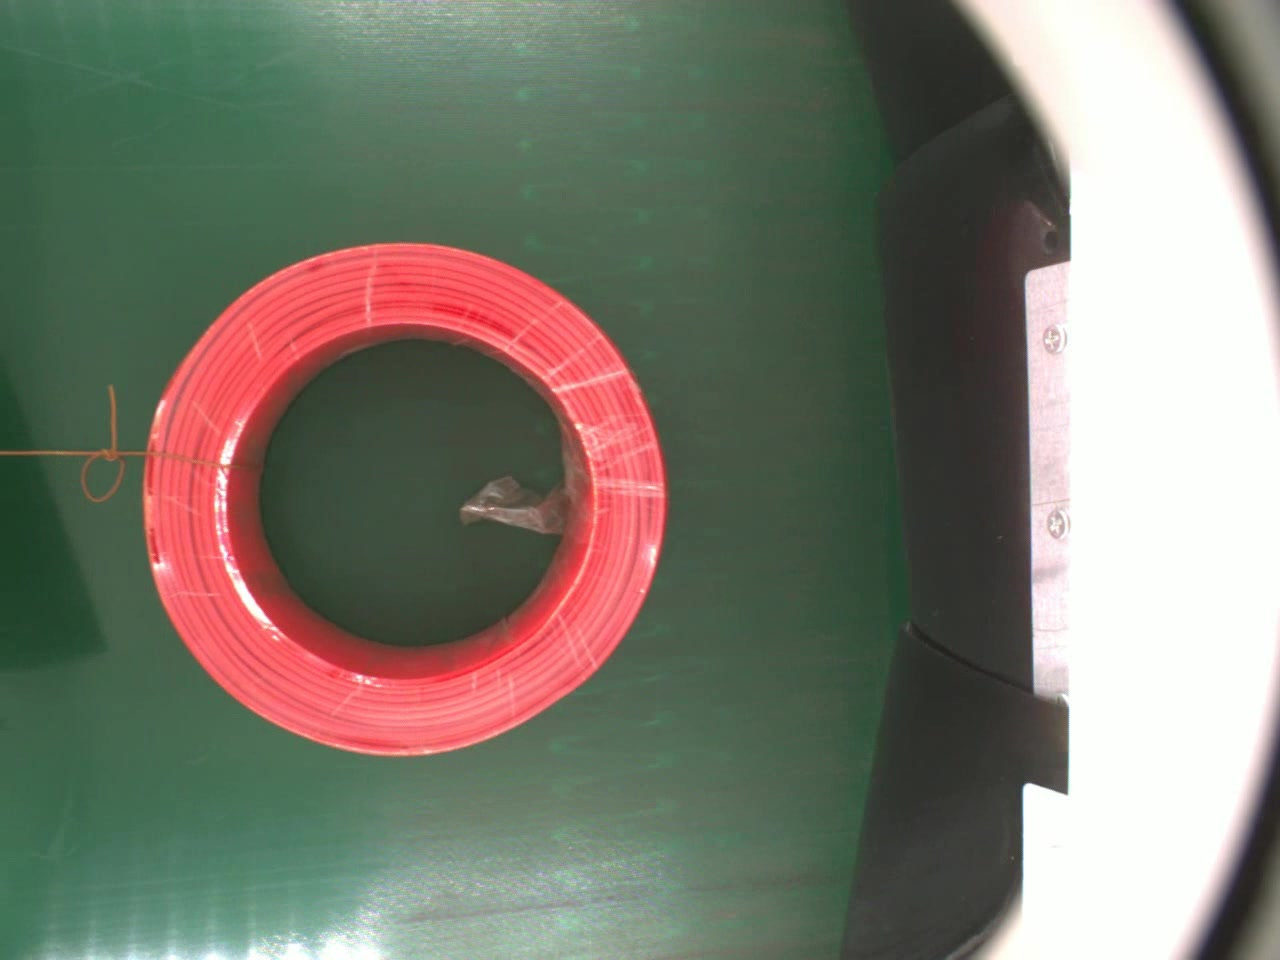red: (136, 239, 674, 760)
